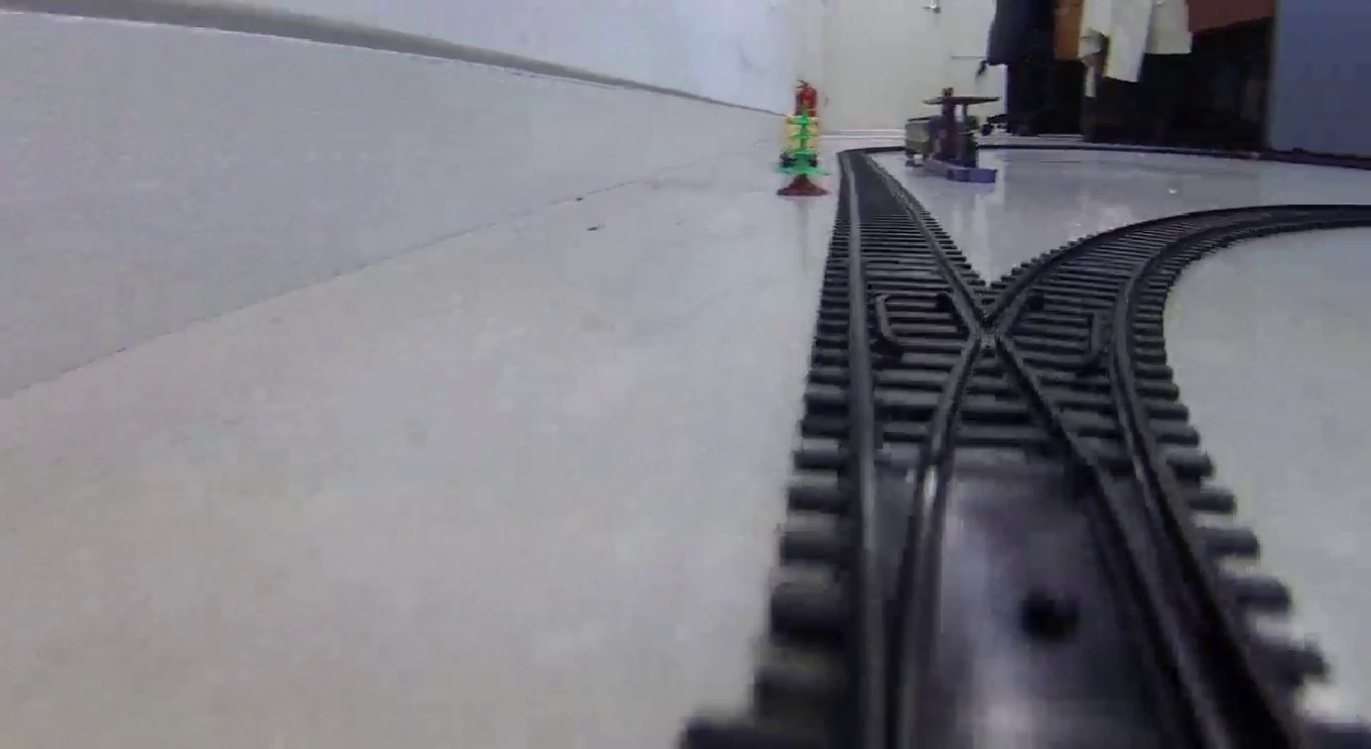tree: (772, 98, 833, 196)
